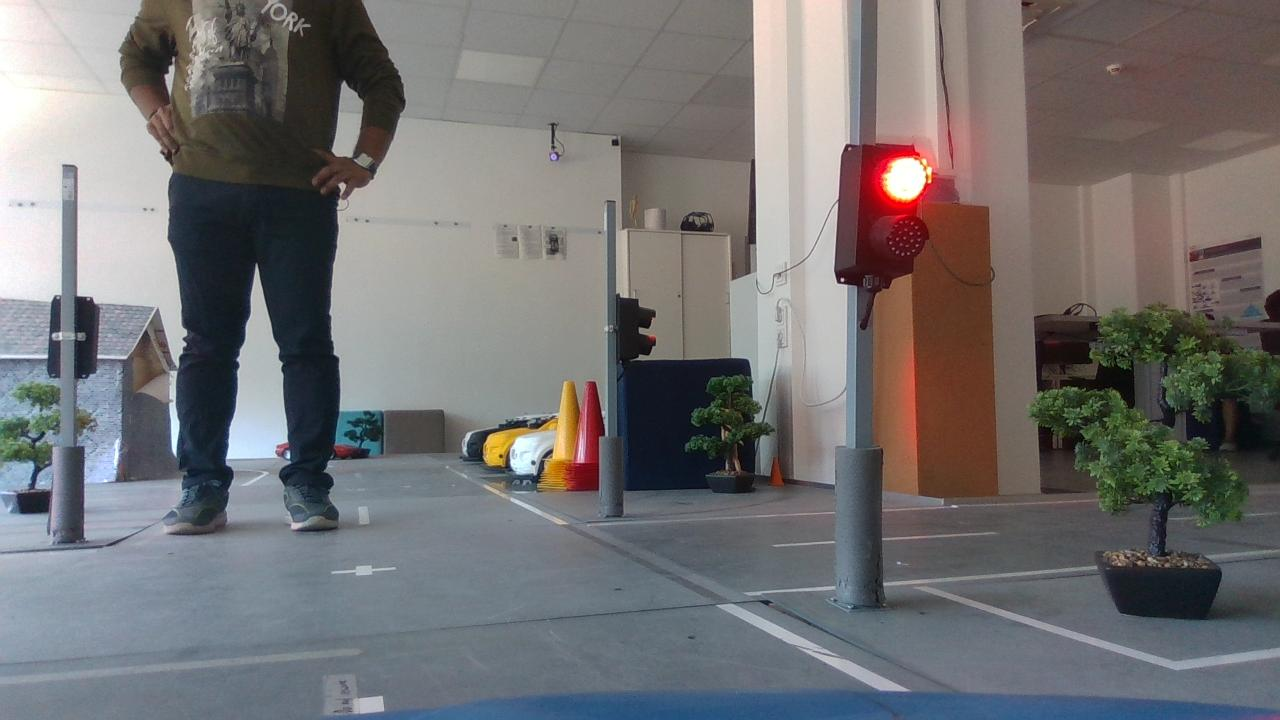traffic_light_red: (826, 132, 939, 306)
